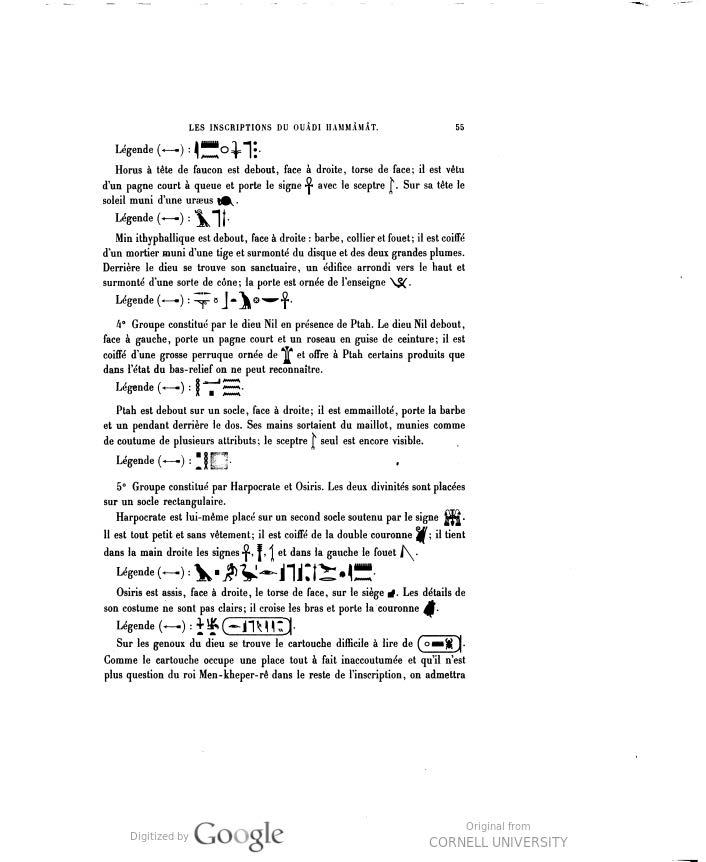circle: (219, 613, 315, 644), (416, 631, 467, 656)
